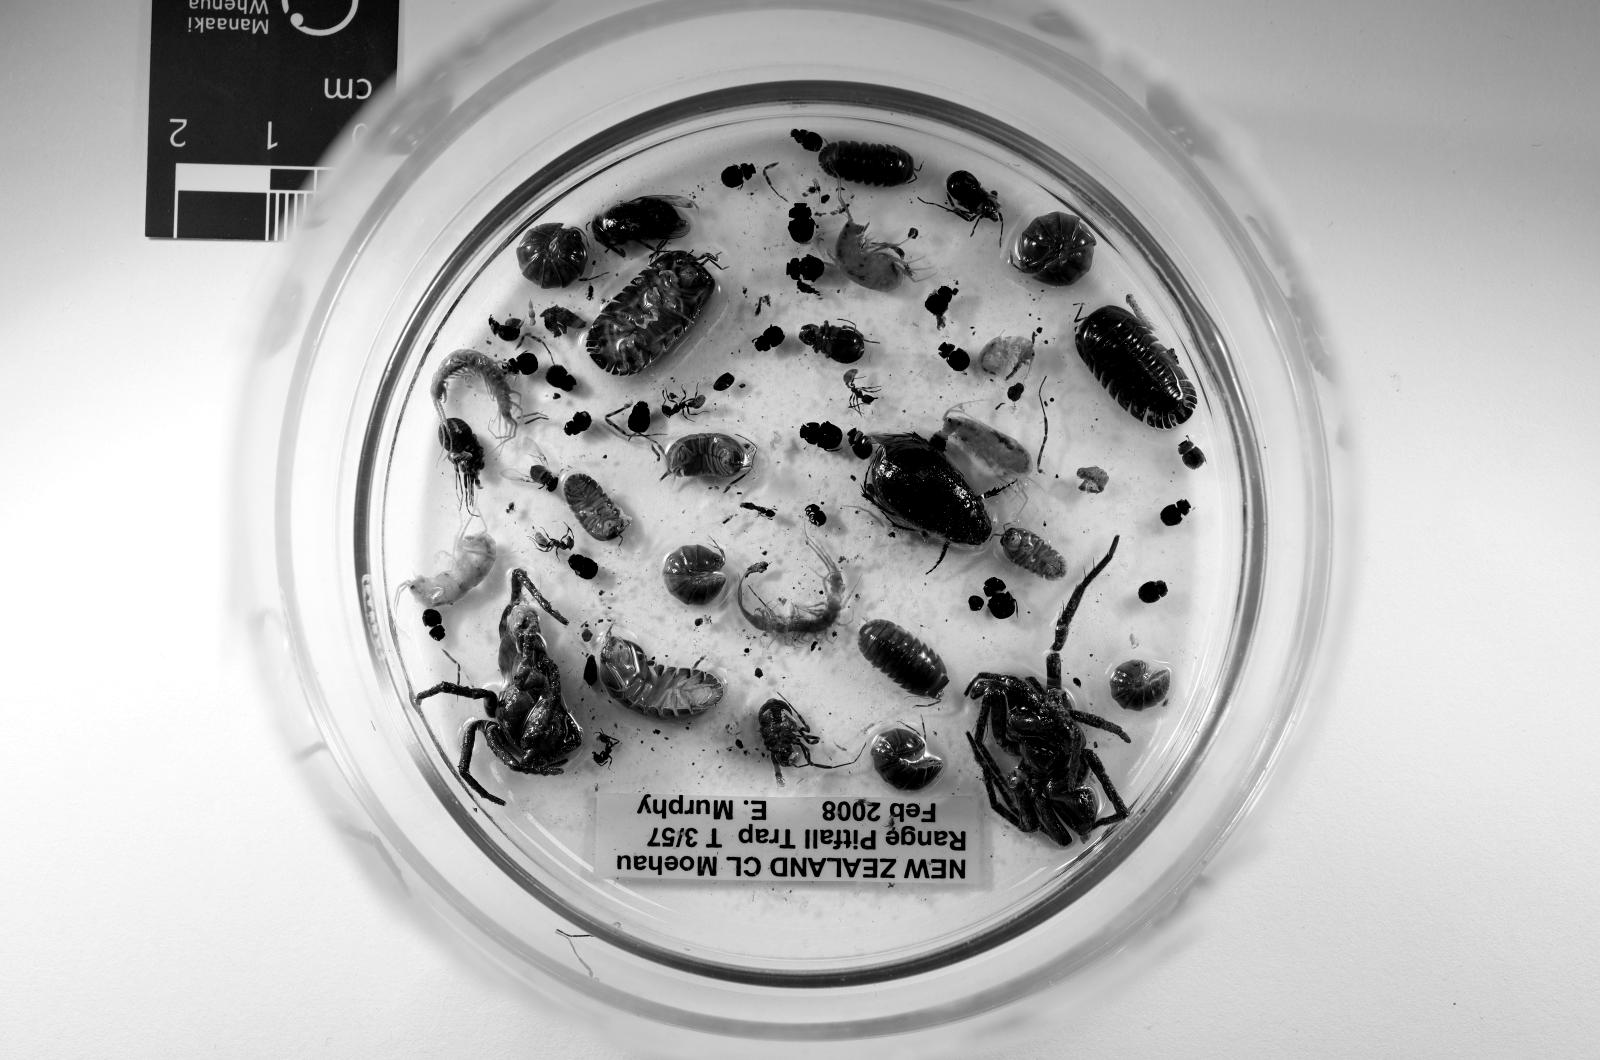amphipoda: (397, 522, 497, 609), (828, 217, 916, 292), (944, 413, 1031, 481), (978, 335, 1034, 379)
araneae: (966, 540, 1131, 845), (416, 571, 581, 804)
chilopoda: (738, 537, 847, 646), (431, 348, 538, 444)
coleoptera: (862, 432, 991, 547), (984, 578, 1016, 618), (800, 422, 844, 450), (788, 202, 816, 242), (788, 255, 825, 283), (938, 342, 969, 373), (722, 161, 756, 189), (503, 351, 538, 376), (925, 286, 953, 317), (547, 363, 578, 391), (847, 429, 875, 460), (791, 127, 825, 152), (1159, 500, 1191, 525), (1178, 441, 1206, 469), (753, 326, 784, 351), (488, 317, 519, 342), (628, 401, 650, 435), (569, 556, 597, 581), (422, 609, 444, 640), (1138, 581, 1169, 602), (562, 413, 591, 435), (806, 506, 825, 525)
collembola: (505, 501, 518, 514)
diptera: (591, 196, 694, 258), (500, 438, 559, 491), (806, 180, 819, 193), (588, 286, 594, 301)
formicidae: (844, 370, 881, 413), (659, 391, 706, 416), (534, 531, 575, 553), (594, 733, 619, 767), (741, 503, 775, 519)
isopoda: (584, 252, 716, 376), (1075, 304, 1197, 429), (600, 634, 725, 720), (856, 621, 947, 699), (1009, 211, 1097, 286), (872, 727, 944, 792), (516, 224, 588, 289), (819, 140, 916, 186), (662, 435, 756, 481), (562, 475, 628, 540), (662, 547, 725, 606), (1000, 528, 1066, 581), (1109, 661, 1172, 711)
opiliones: (759, 699, 834, 786), (944, 171, 1003, 242), (438, 419, 484, 509), (800, 323, 866, 363)
